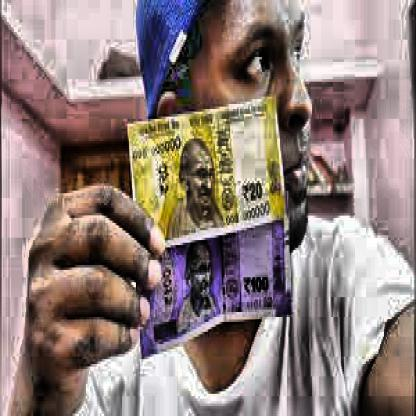Rs100: (242, 271, 272, 298)
Rs20: (240, 180, 268, 204)
